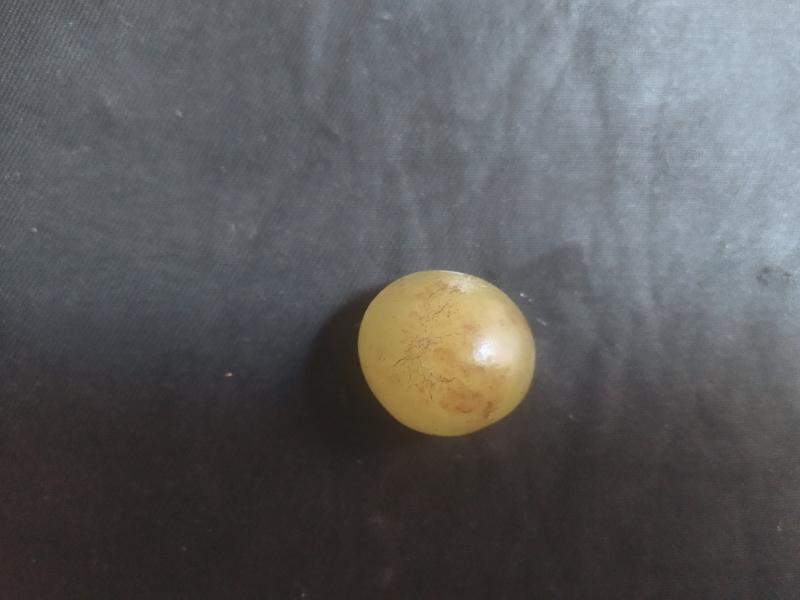Grape Rotten: (353, 267, 539, 439)
